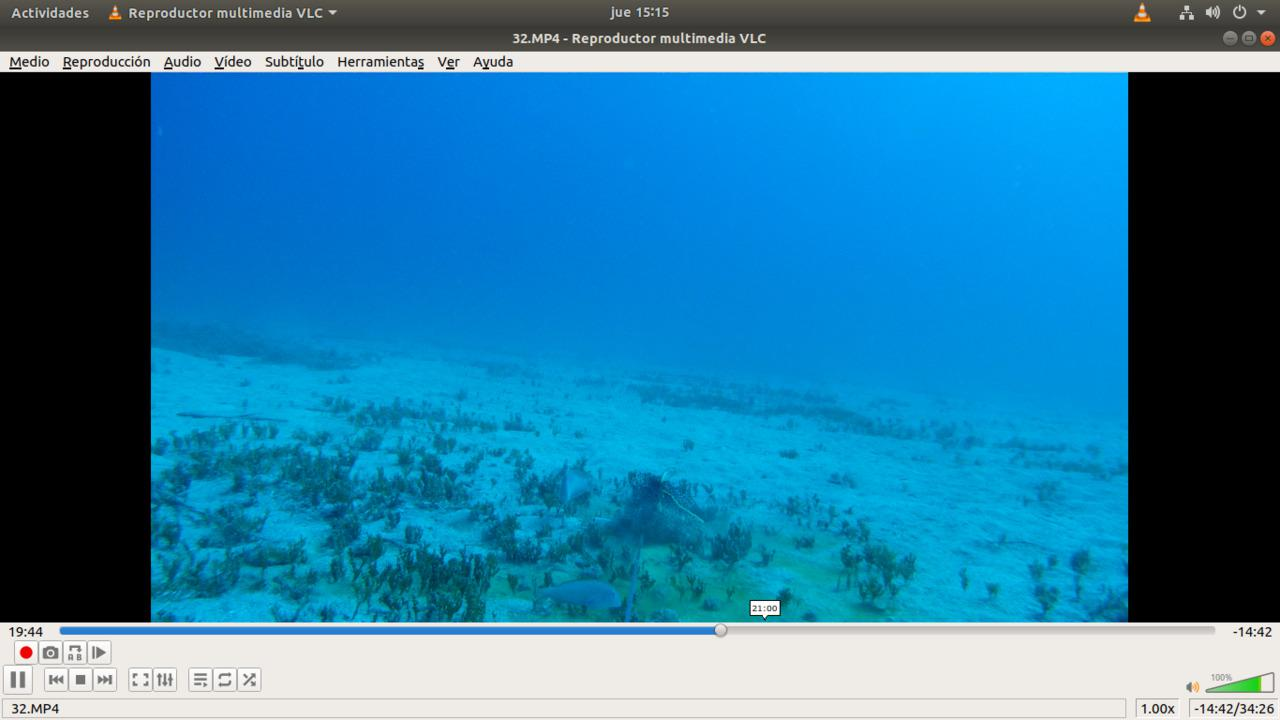raor: (526, 575, 626, 614)
